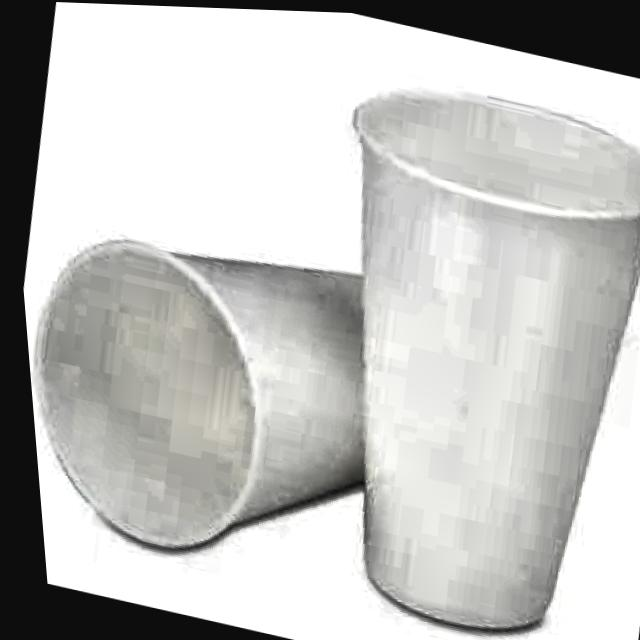Cup: (232, 45, 640, 640), (10, 157, 494, 623)
